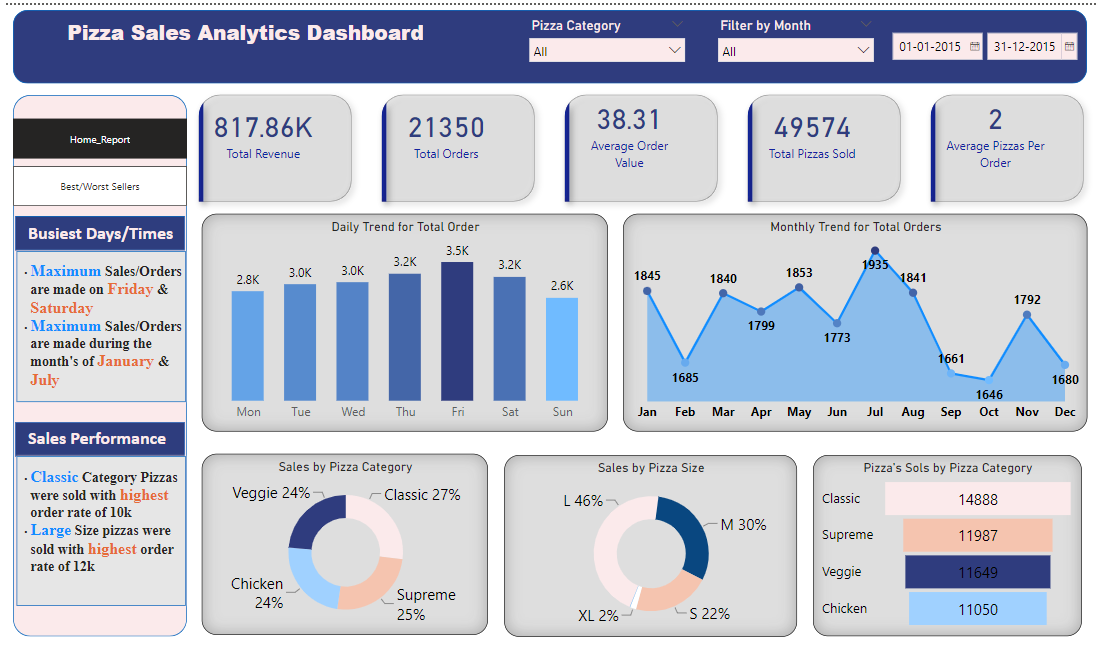

Layout of this report page (visuals, bound fields, positions):
{"tool":"powerbi","page":{"name":"Home_Report","canvas":[1460,867],"ordinal":0},"visuals":[{"type":"cardVisual","fields":{"Data":["pizza_sales.Total Revenue","pizza_sales.Total Orders","pizza_sales.Average Order Value","pizza_sales.Total Pizzas Sold","pizza_sales.Average Pizzas Per Order"]},"box":[245.5,103.3,1213.8,175.3],"z":0},{"type":"shape","title":"Pizza Sales Analysis/Dashboard  (2015)","box":[14,6,1432,98],"z":1000},{"type":"textbox","box":[0,11.7,646.8,91.6],"z":2000},{"type":"columnChart","title":"Daily Trend for Total Order","fields":{"Category":["pizza_sales.Order Day"],"Y":["pizza_sales.Total Orders"]},"box":[265,278.6,541.6,290.3],"z":3000},{"type":"areaChart","title":"Monthly Trend for Total Orders","fields":{"Category":["pizza_sales.Order Month"],"Y":["pizza_sales.Total Orders"]},"box":[826.1,278.6,619.6,290.3],"z":4000},{"type":"donutChart","title":"Sales by Pizza Category","fields":{"Category":["pizza_sales.pizza_category"],"Y":["pizza_sales.Total Revenue"]},"box":[265,598.1,381.9,241.6],"z":5000},{"type":"funnel","title":"Pizza''s Sols by Pizza Category","fields":{"Category":["pizza_sales.pizza_category"],"Y":["pizza_sales.Total Pizzas Sold"]},"box":[1079.4,600.1,358.5,241.6],"z":6000},{"type":"donutChart","title":"Sales by Pizza Size","fields":{"Y":["pizza_sales.Total Revenue"],"Category":["pizza_sales.pizza_size"]},"box":[668,600,390,242],"z":7000},{"type":"shape","box":[14,120,232,722],"z":8000},{"type":"shape","box":[14,278,232,52],"z":9000},{"type":"shape","box":[14,552.7,232,52],"z":10000},{"type":"shape","box":[14.2,324.2,231.7,207.5],"z":11000},{"type":"shape","box":[14.2,598.3,231.7,205.8],"z":12000},{"type":"slicer","fields":{"Values":["pizza_sales.pizza_category"]},"box":[691.7,11.7,228,76],"z":13000},{"type":"slicer","fields":{"Values":["pizza_sales.order_date"]},"box":[1172.9,27.3,265,52.6],"z":14000},{"type":"slicer","fields":{"Values":["pizza_sales.Order Month"]},"box":[943,11.7,228,76],"z":15000},{"type":"textbox","box":[28,557,263,41],"z":16000},{"type":"textbox","box":[28,284,263,40],"z":17000},{"type":"textbox","box":[14,336,232,196],"z":18000},{"type":"textbox","box":[14,612,232,178],"z":19000},{"type":"pageNavigator","box":[13.8,151.2,232.5,117.5],"z":21000}]}

Visuals, with their boxes in screenshot pixels (x1, y1, x2, y2), scaled from the page's 1460x867 canvas onto the 1099x645 screenshot:
cardVisual - pizza_sales.Total Revenue x pizza_sales.Total Orders: <bbox>185, 77, 1098, 207</bbox>
"Pizza Sales Analysis/Dashboard  (2015)" shape: <bbox>11, 4, 1088, 77</bbox>
textbox: <bbox>0, 9, 487, 77</bbox>
"Daily Trend for Total Order" columnChart: <bbox>199, 207, 607, 423</bbox>
"Monthly Trend for Total Orders" areaChart: <bbox>622, 207, 1088, 423</bbox>
"Sales by Pizza Category" donutChart: <bbox>199, 445, 487, 625</bbox>
"Pizza''s Sols by Pizza Category" funnel: <bbox>813, 446, 1082, 626</bbox>
"Sales by Pizza Size" donutChart: <bbox>503, 446, 796, 626</bbox>
shape: <bbox>11, 89, 185, 626</bbox>
shape: <bbox>11, 207, 185, 246</bbox>
shape: <bbox>11, 411, 185, 450</bbox>
shape: <bbox>11, 241, 185, 396</bbox>
shape: <bbox>11, 445, 185, 598</bbox>
slicer - pizza_sales.pizza_category: <bbox>521, 9, 692, 65</bbox>
slicer - pizza_sales.order_date: <bbox>883, 20, 1082, 59</bbox>
slicer - pizza_sales.Order Month: <bbox>710, 9, 881, 65</bbox>
textbox: <bbox>21, 414, 219, 445</bbox>
textbox: <bbox>21, 211, 219, 241</bbox>
textbox: <bbox>11, 250, 185, 396</bbox>
textbox: <bbox>11, 455, 185, 588</bbox>
pageNavigator: <bbox>10, 112, 185, 200</bbox>
